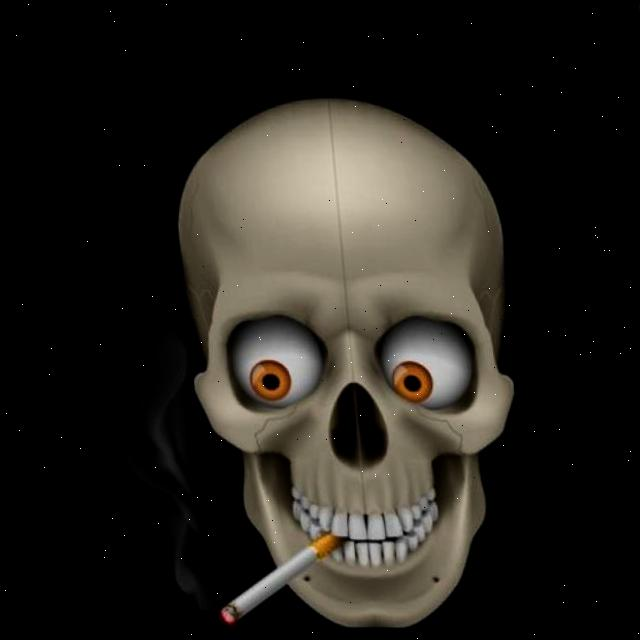cigarette: (205, 533, 336, 621)
